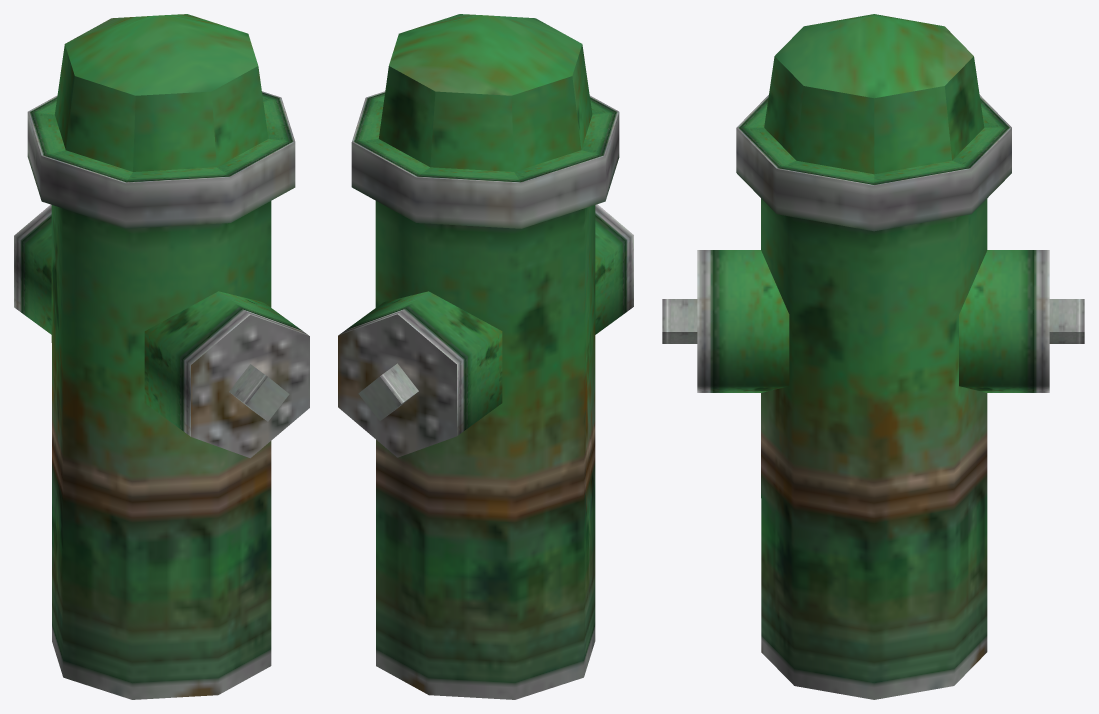
File: hydrantgreen.fbx
The picture shows the model from 3 angles, left to right: view 1: azimuth 30°, elevation 25°; view 2: azimuth 150°, elevation 25°; view 3: azimuth 270°, elevation 25°; orthographic projection.
Parts seen in each view (by area): view 1: mesh_0; view 2: mesh_0; view 3: mesh_0.
Part boxes in pixels (bbox=[...]): mesh_0: bbox=[14, 14, 309, 699]; mesh_0: bbox=[338, 14, 633, 699]; mesh_0: bbox=[662, 14, 1084, 699].
Bounding box in the file's own units: 26.15 × 66.49 × 40.05.
Materials: 1 (1 with a texture image).
